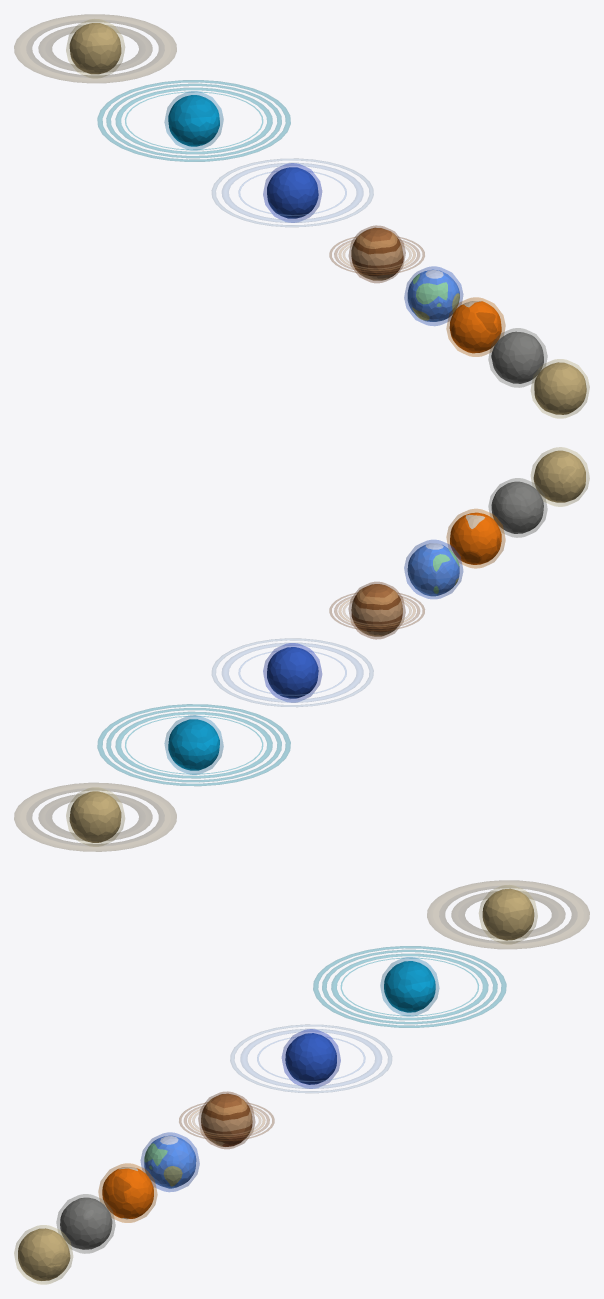
The model's file is planets.fbx.
3 renders of one model, top to bottom at view 1: azimuth 30°, elevation 25°; view 2: azimuth 150°, elevation 25°; view 3: azimuth 330°, elevation 25°, orthographic.
Parts seen in each view (by area): view 1: Окружность, Окружность.001, Окружность.002, Сфера.003, Сфера.001, Сфера.007, Сфера, Сфера.005, Сфера.002, Сфера.004, Сфера.006, Jupiter (+8 smaller); view 2: Окружность, Окружность.001, Окружность.002, Сфера.003, Сфера.005, Сфера.007, Сфера.002, Сфера.001, Сфера, Сфера.004, Сфера.006, Jupiter (+8 smaller); view 3: Окружность, Окружность.001, Окружность.002, Сфера.003, Сфера.001, Сфера.007, Сфера, Сфера.002, Сфера.005, Сфера.004, Сфера.006, Jupiter (+8 smaller).
Part boxes in pixels (x1,y1,x2,y2): Окружность: (14, 14, 176, 82); Окружность.001: (97, 80, 290, 161); Окружность.002: (211, 158, 373, 226); Сфера.003: (164, 91, 223, 150); Сфера.001: (531, 359, 589, 418); Сфера.007: (263, 163, 321, 222); Сфера: (488, 328, 547, 387); Сфера.005: (404, 266, 463, 325); Сфера.002: (446, 297, 505, 356); Сфера.004: (66, 19, 124, 78); Сфера.006: (348, 225, 405, 282); Jupiter: (351, 227, 403, 280); Окружность: (14, 783, 176, 851); Окружность.001: (97, 704, 290, 785); Окружность.002: (211, 638, 373, 706); Сфера.003: (164, 715, 223, 774); Сфера.005: (404, 540, 463, 598); Сфера.007: (263, 643, 321, 702); Сфера.002: (446, 509, 505, 568); Сфера.001: (531, 447, 589, 506); Сфера: (488, 478, 547, 537); Сфера.004: (66, 787, 124, 846); Сфера.006: (348, 582, 405, 639); Jupiter: (351, 584, 402, 636); Окружность: (427, 880, 589, 948); Окружность.001: (313, 946, 506, 1027); Окружность.002: (230, 1024, 392, 1092); Сфера.003: (380, 957, 439, 1016); Сфера.001: (14, 1225, 72, 1284); Сфера.007: (282, 1029, 340, 1088); Сфера: (56, 1194, 115, 1253); Сфера.002: (98, 1163, 157, 1222); Сфера.005: (140, 1132, 199, 1191); Сфера.004: (479, 885, 537, 944); Сфера.006: (198, 1091, 255, 1148); Jupiter: (201, 1093, 252, 1146).
Size of the model in its own units: 689 by 213 by 3697.
